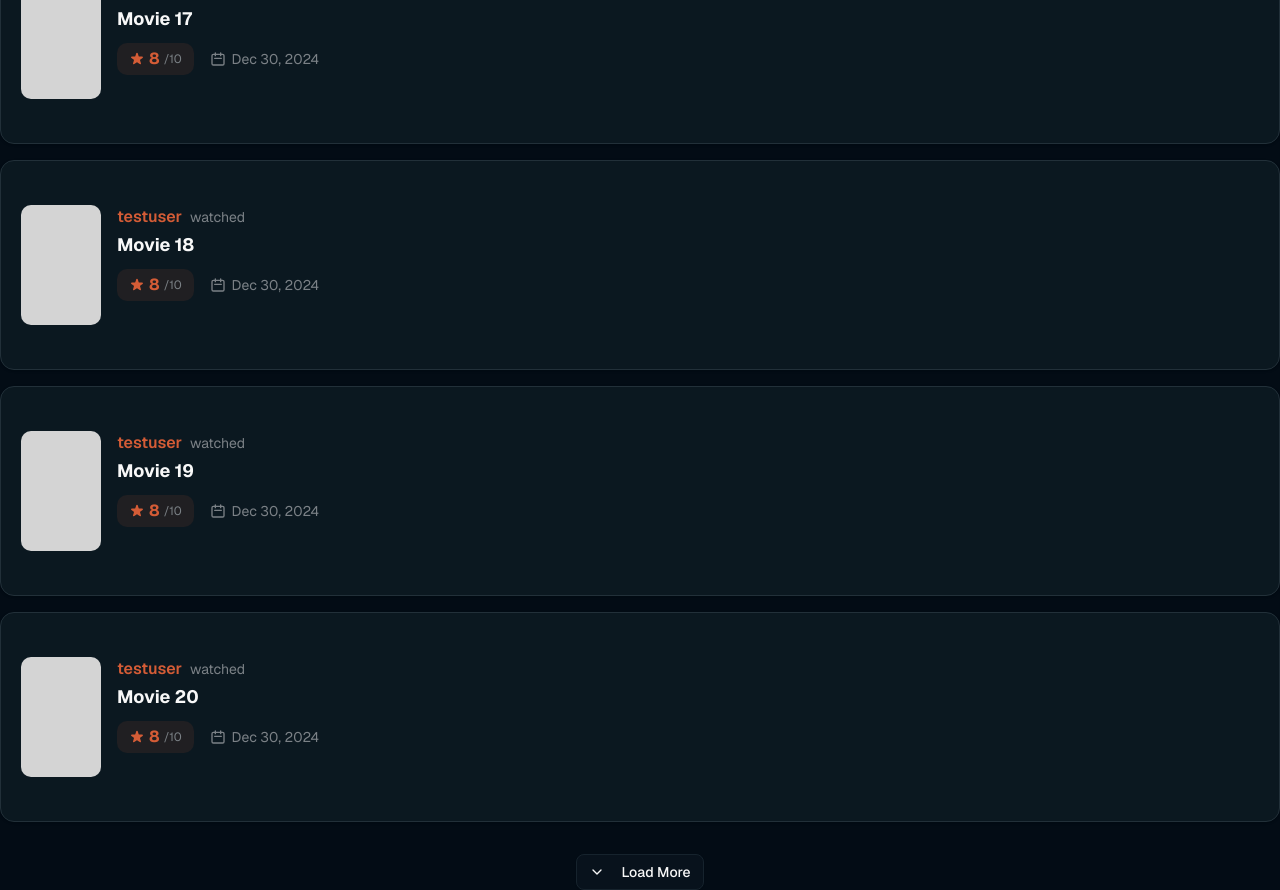
Test case: GroupFeed › loads more items when load more button is clicked
This screenshot has width=1280, height=890.
(page scrolled)
Click the button "Load More" at [640, 872], box [576,854,704,889]
(page scrolled)
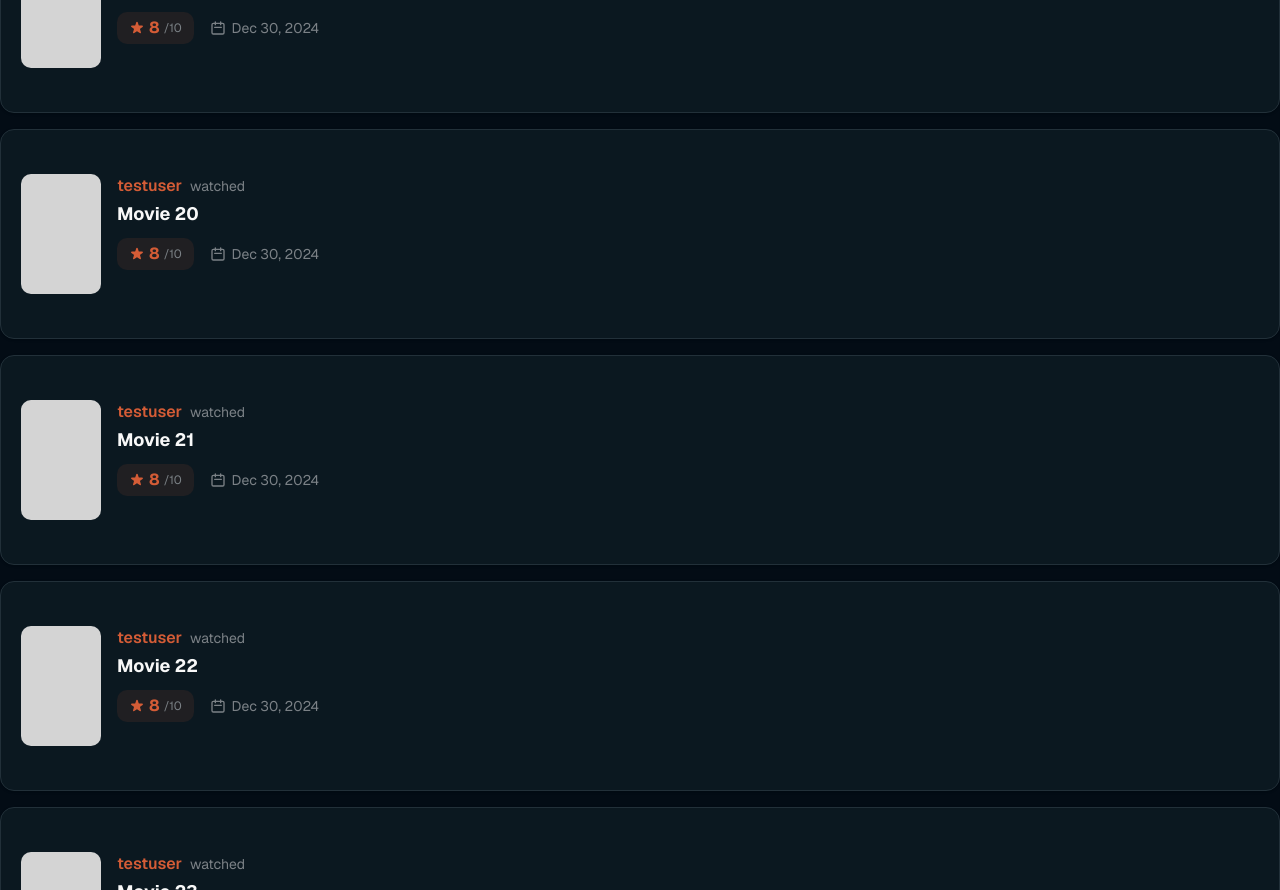
Check: the link "Movie 21" is shown, box [117,426,194,454]
